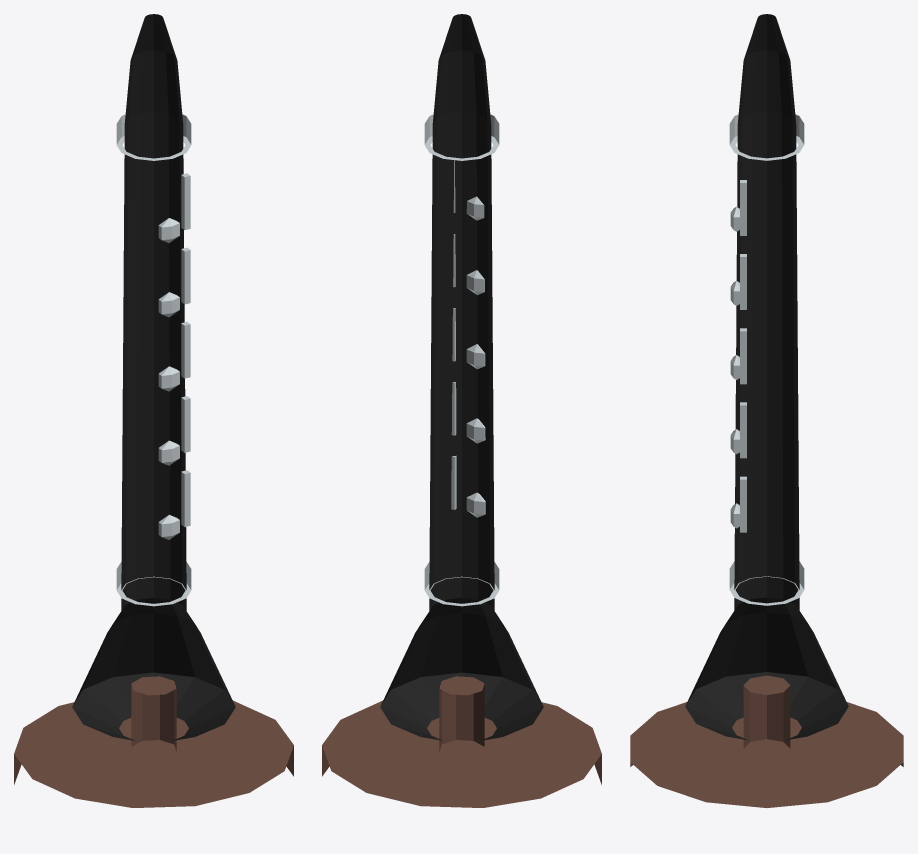
The model's file is klarinett.glb.
3 views of the same model, side by side, from view 1: azimuth 30°, elevation 25°; view 2: azimuth 150°, elevation 25°; view 3: azimuth 270°, elevation 25° (orthographic).
Visible parts, largest first — view 1: klarinett; view 2: klarinett; view 3: klarinett.
Part boxes in pixels (left/top/right/bottom): klarinett: left=14, top=14, right=293, bottom=807; klarinett: left=322, top=14, right=601, bottom=807; klarinett: left=630, top=14, right=903, bottom=807.
Bounding box in the file's own units: 0.24 × 0.72 × 0.234.
